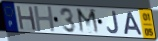3: (59, 7, 77, 34)
A: (123, 11, 144, 36)
H: (32, 5, 57, 33), (15, 5, 38, 32)
J: (106, 11, 120, 35)
M: (75, 7, 102, 35)
